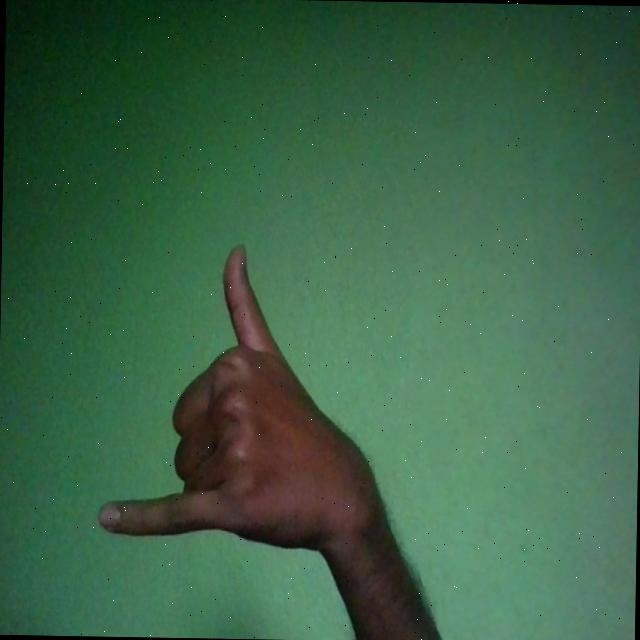Call Me: (96, 238, 392, 552)
